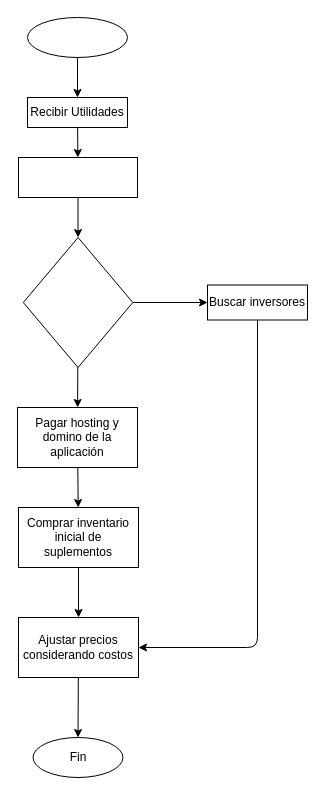
The diagram is 325 pixels wide and 795 high, and some of its shapes have lost their labels. Each missing label, with the box of its shape:
El presupuesto cubre los costos?: (22, 236, 133, 368)
Evaluar presupuesto disponible: (18, 156, 138, 198)
Iniciio: (26, 16, 128, 58)
